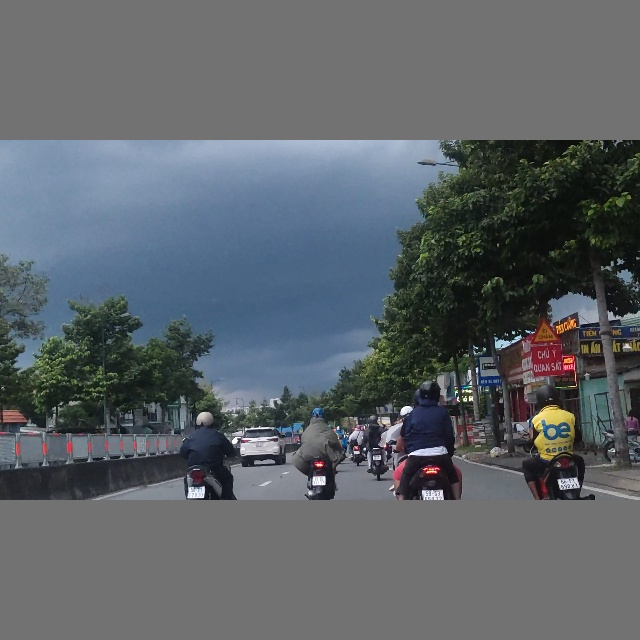I.434a: (477, 354, 504, 386)
W.245a: (529, 318, 559, 344)
